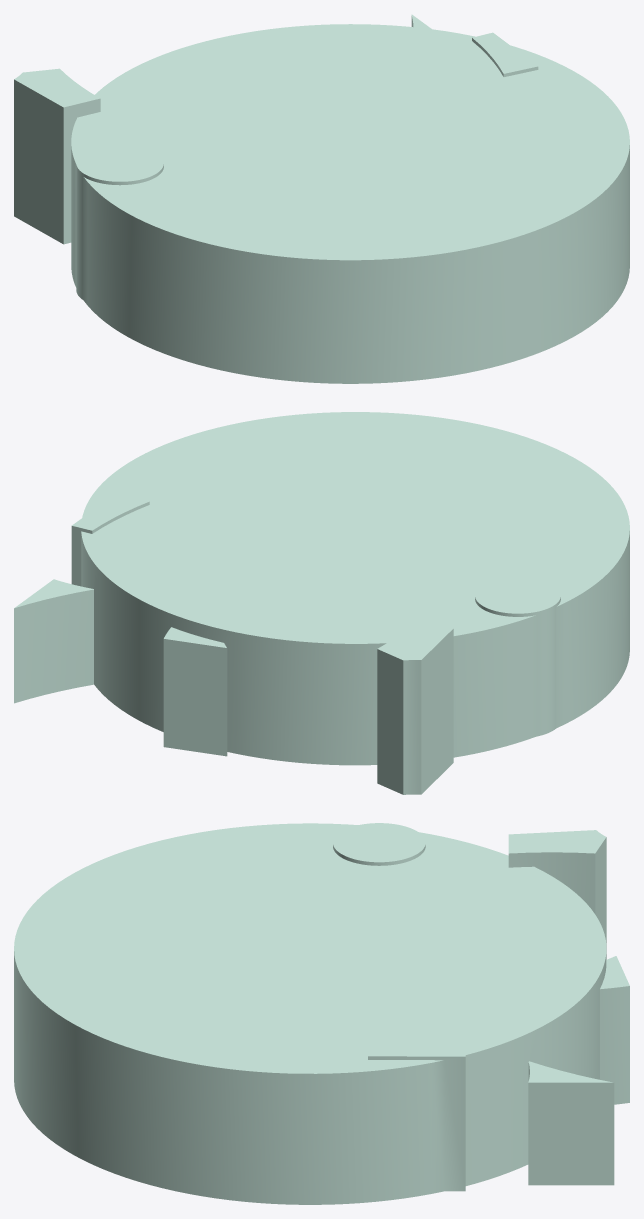
3 renders of one model, top to bottom at view 1: azimuth 30°, elevation 25°; view 2: azimuth 150°, elevation 25°; view 3: azimuth 270°, elevation 25°, orthographic. The views are drawn at different scales.
Visible parts, largest first — view 1: Renderer Node; view 2: Renderer Node; view 3: Renderer Node.
Part boxes in pixels (bbox=[...]): Renderer Node: bbox=[14, 14, 629, 383]; Renderer Node: bbox=[14, 412, 629, 794]; Renderer Node: bbox=[14, 823, 629, 1204].
Bounding box in the file's own units: 1.18 × 0.3438 × 1.23.
